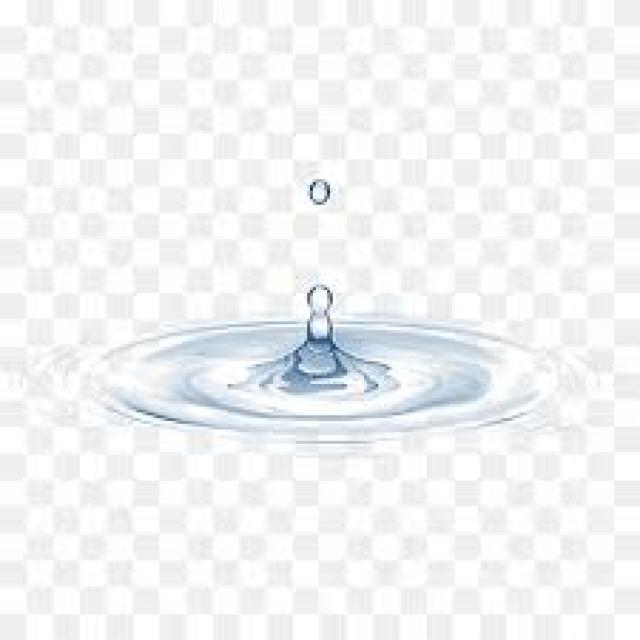raindrop: (301, 280, 355, 367), (302, 173, 343, 213)
